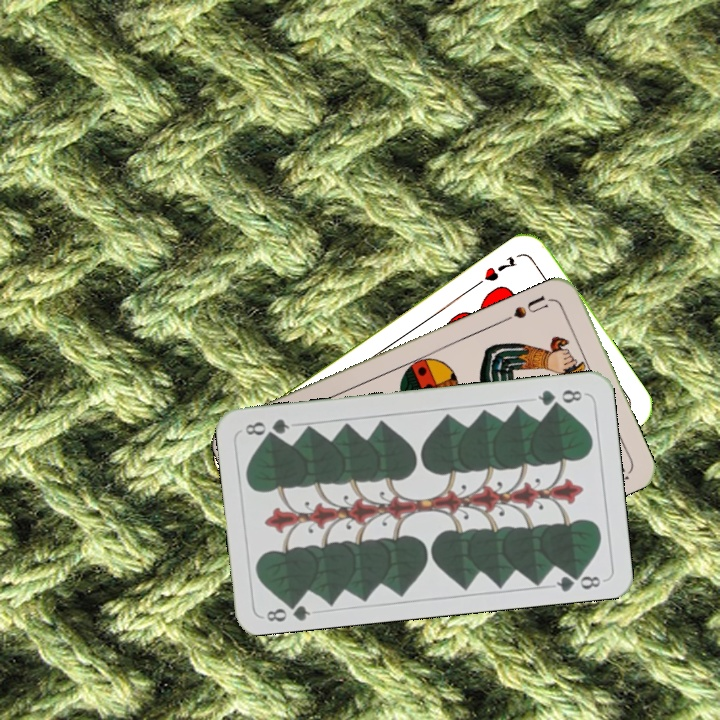G8: (262, 595, 313, 625), (533, 385, 585, 409)
H7: (480, 252, 520, 284)
SU: (499, 291, 556, 325)
